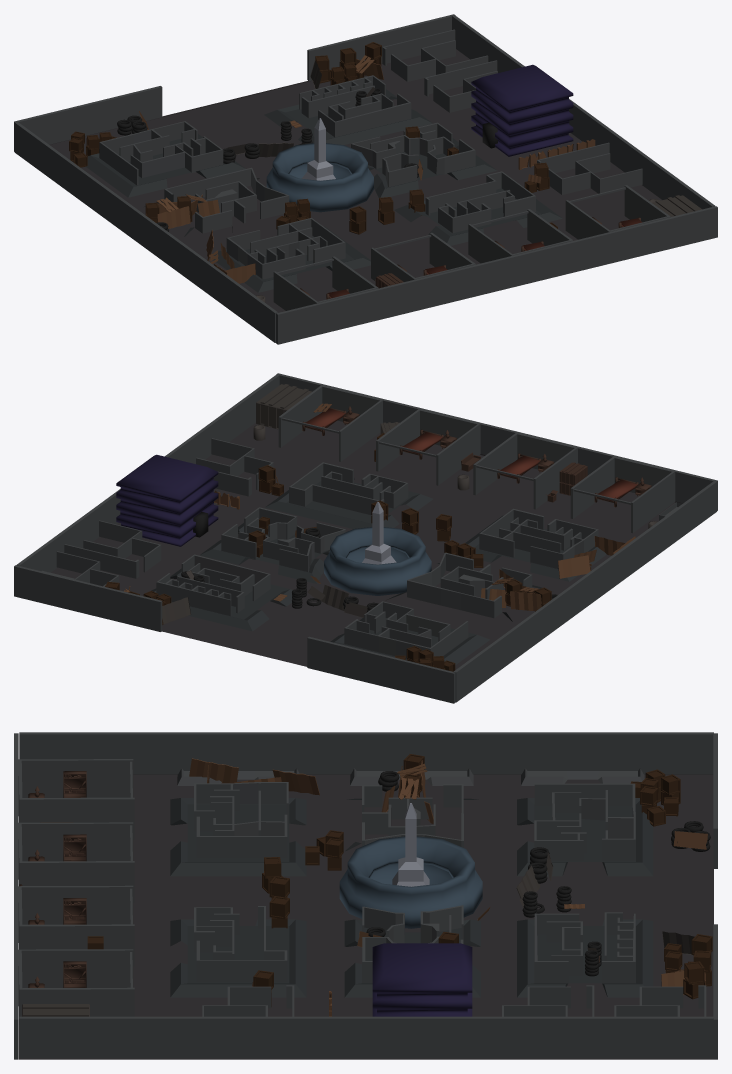
Rendered from Labirinto_v4.fbx.
3 renders of one model, top to bottom at view 1: azimuth 30°, elevation 25°; view 2: azimuth 150°, elevation 25°; view 3: azimuth 270°, elevation 25°, orthographic. The views are drawn at different scales.
Visible parts, largest first — view 1: Placa.003; view 2: Placa.003; view 3: Placa.003.
Boxes of the visible parts, x1,y1,x2,y2 form: Placa.003: [14, 14, 717, 344]; Placa.003: [14, 373, 717, 703]; Placa.003: [14, 732, 717, 1059].
Size of the model in its own units: 8413 by 1450 by 8722.
